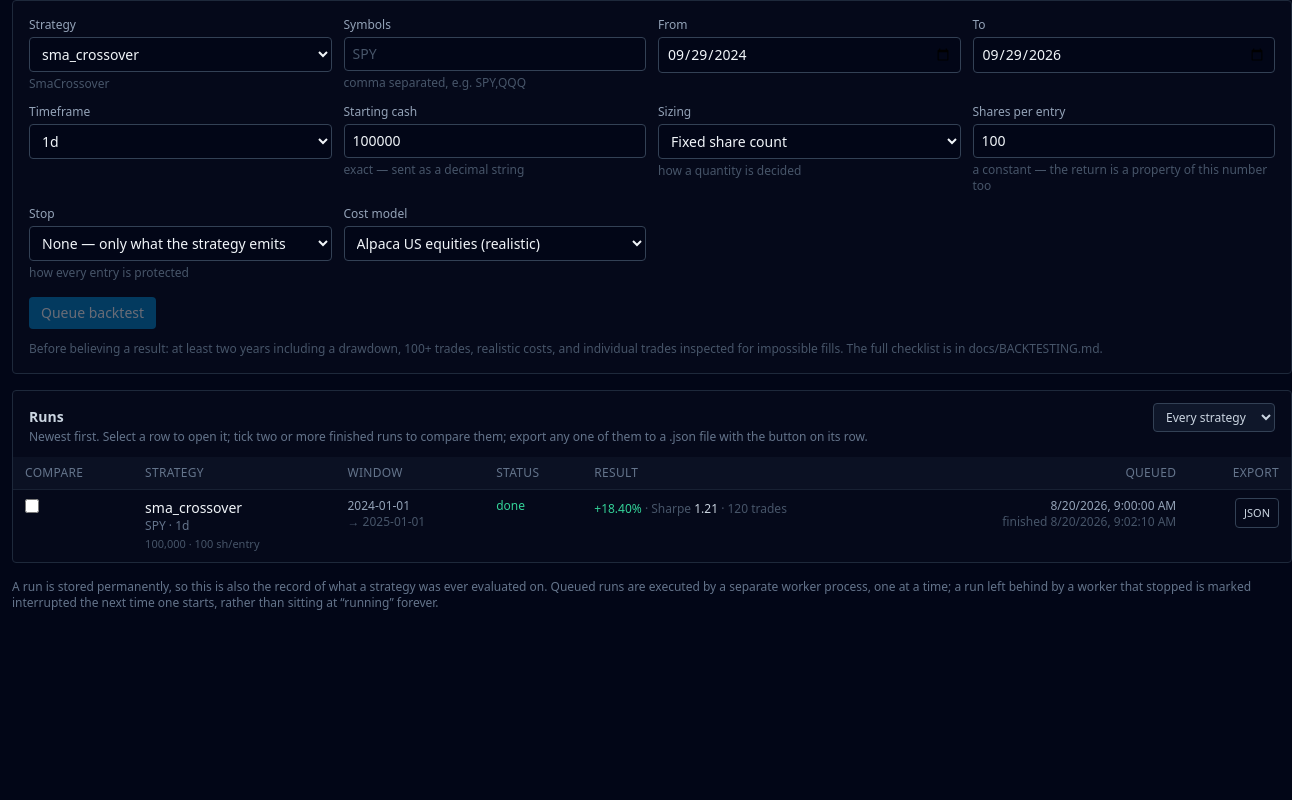
Test: the trades of a finished run › shows why each position closed
The width and height of the screenshot is (1292, 800).
Click the text "2024-01-01": (410,526) [336,490,484,562]
(page scrolled)
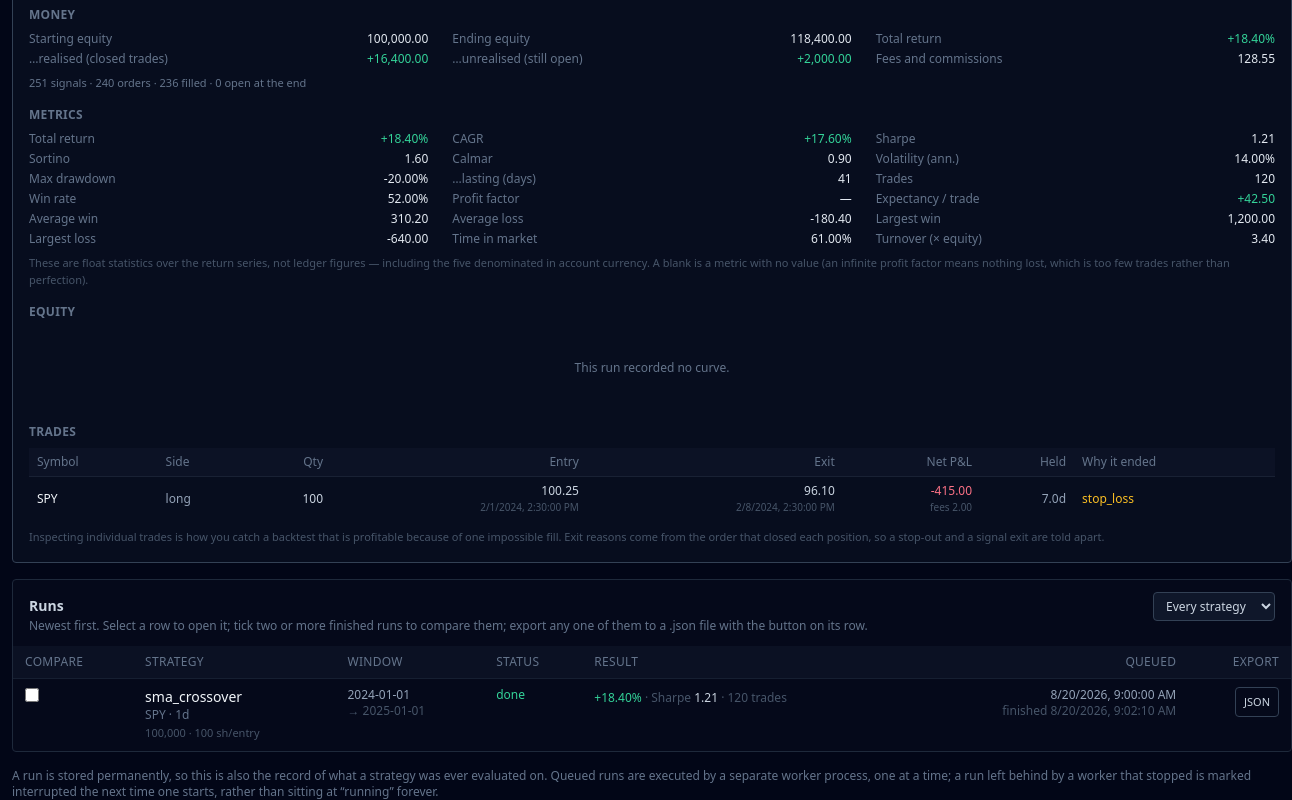
Check: the text "stop_loss" is shown, box [1082,490,1134,507]
Check: the text "-415.00 fees 2.00" is shown, box [843,476,980,521]
